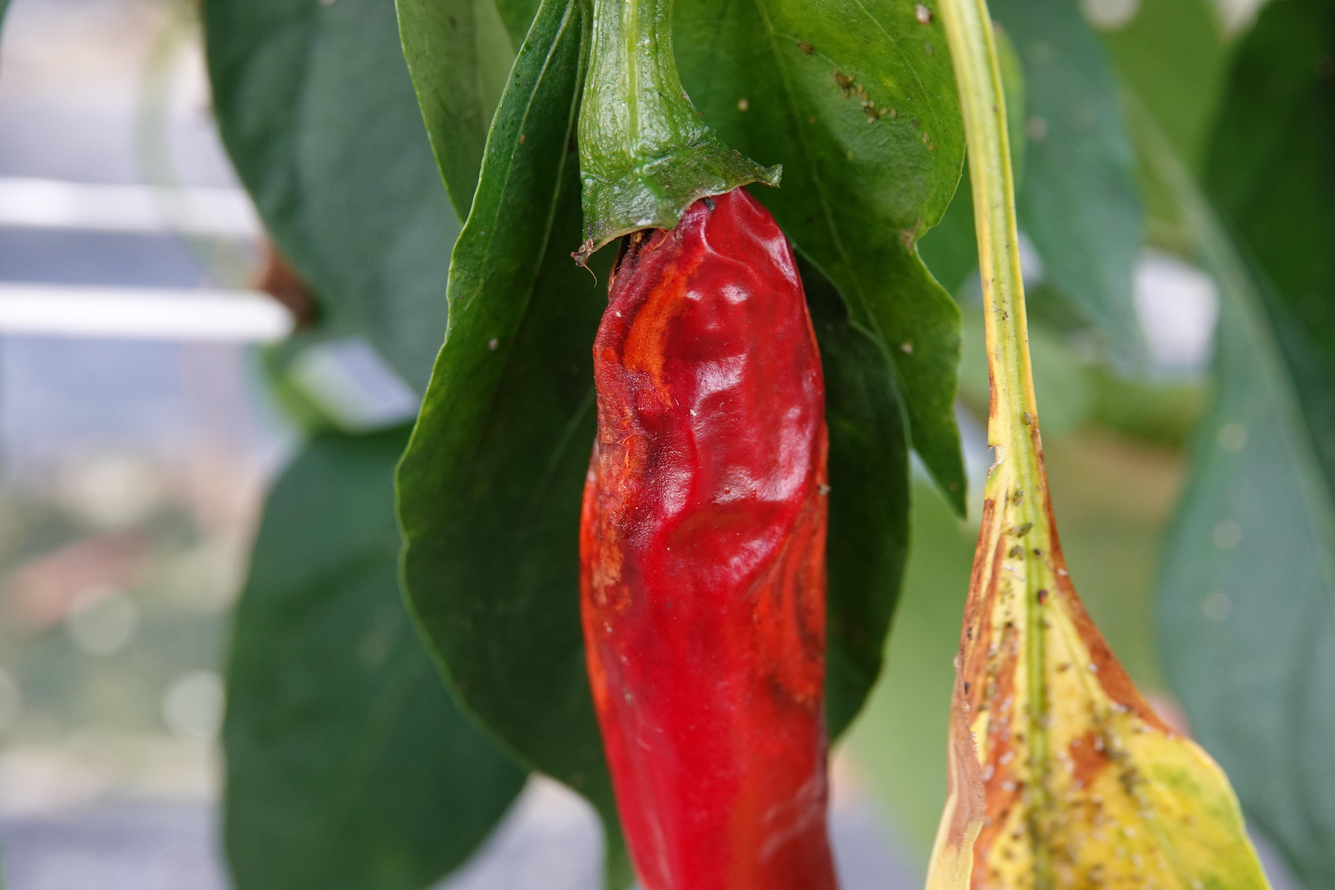Busuk Buah Antraknosa: (574, 182, 839, 886)
